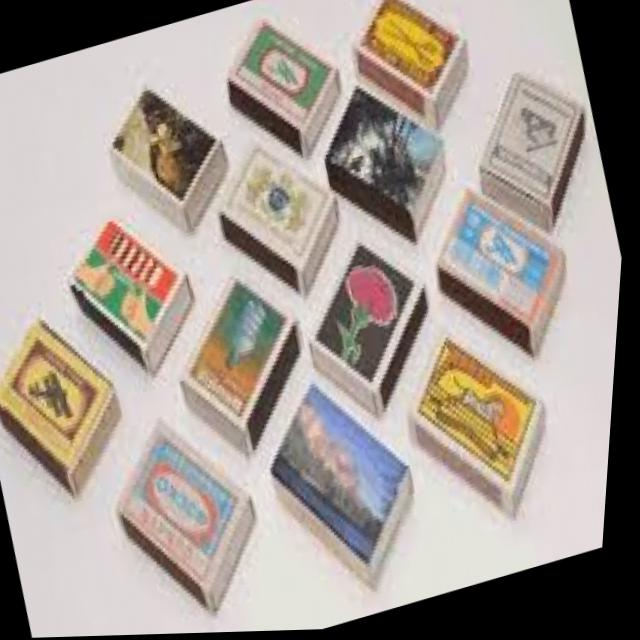match: (248, 357, 450, 620), (384, 309, 589, 554), (94, 390, 294, 637), (146, 249, 342, 478), (408, 161, 600, 389), (281, 219, 464, 438), (0, 290, 160, 521), (303, 66, 479, 272), (48, 194, 222, 399), (449, 53, 618, 255), (197, 124, 368, 320), (85, 56, 250, 250), (205, 0, 362, 171), (330, 0, 494, 150)
